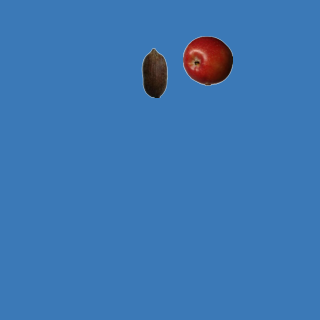Apple Braeburn: (182, 35, 232, 85)
Nut Pecan: (129, 47, 179, 97)
